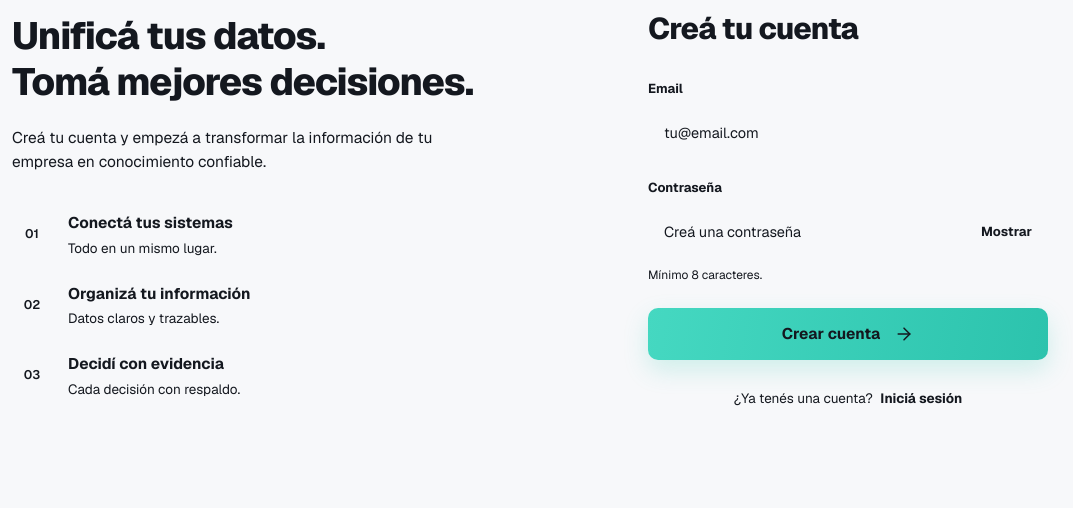
Scenario: Crear cuenta › avisa que el correo ya tiene cuenta cuando Supabase devuelve un usuario sin identidades
In the field labelled "Email": (848, 132) [648,106,1048,158], type "persona@ejemplo.com"
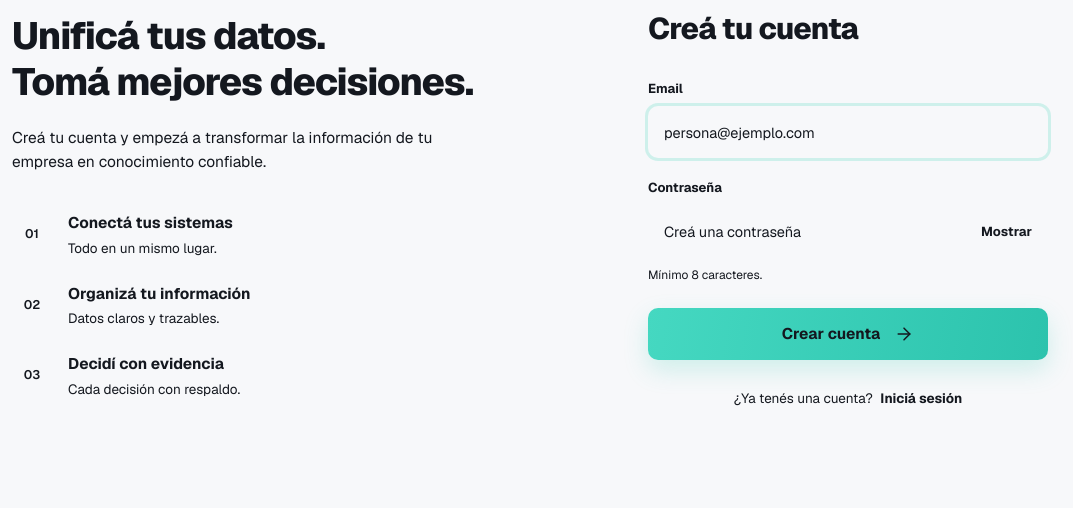
In the password field labelled "Contraseña": (807, 232) [648,206,965,258], type "una-clave-larga"
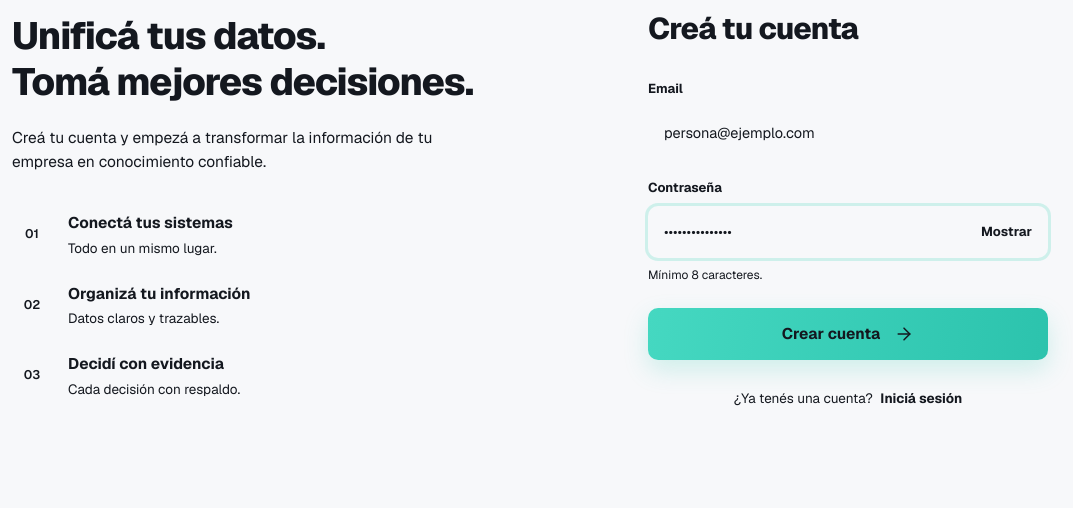
Click the button "Crear cuenta": (848, 334) [648,308,1048,360]
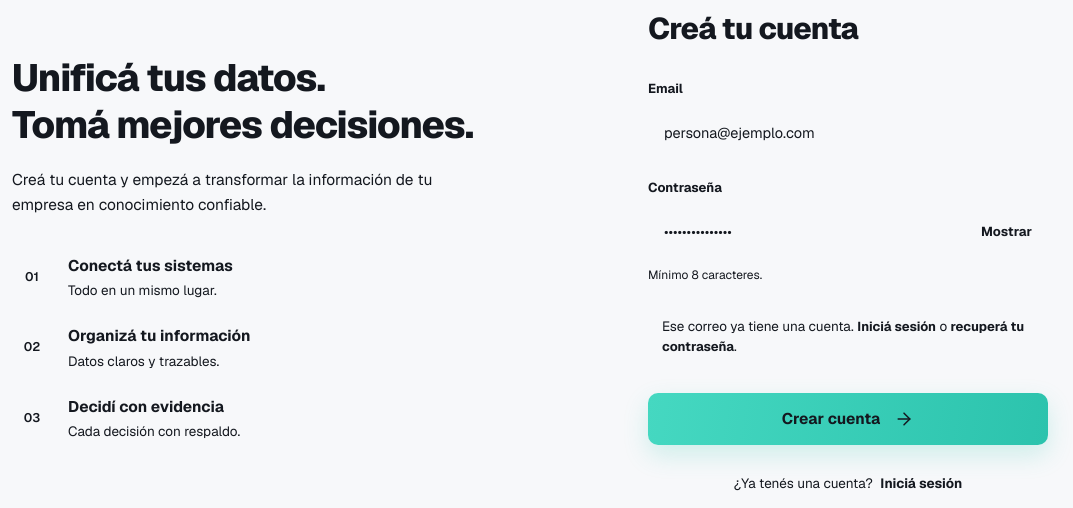
Check: the message shows "Ese correo ya tiene una cuenta.", box [662,316,857,334]
